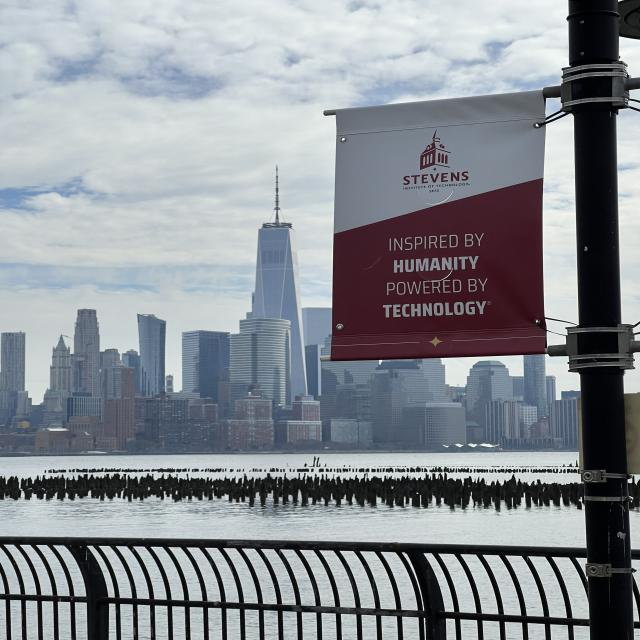WTC: (252, 164, 304, 321)
